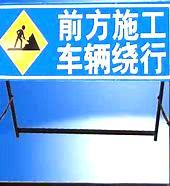sign: (1, 5, 169, 81)
